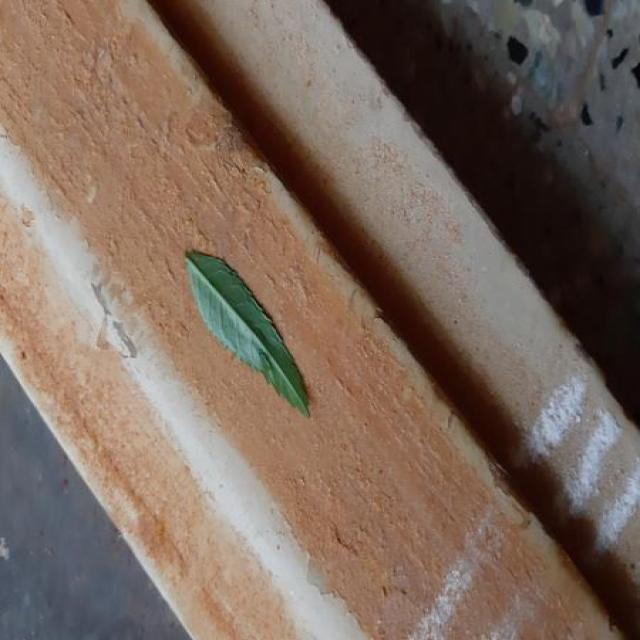marigold: (188, 250, 308, 416)
